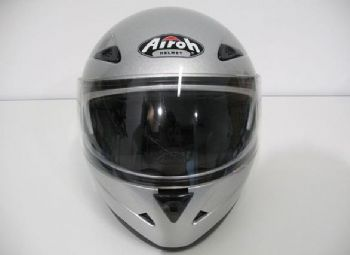helmet: (81, 17, 266, 232)
